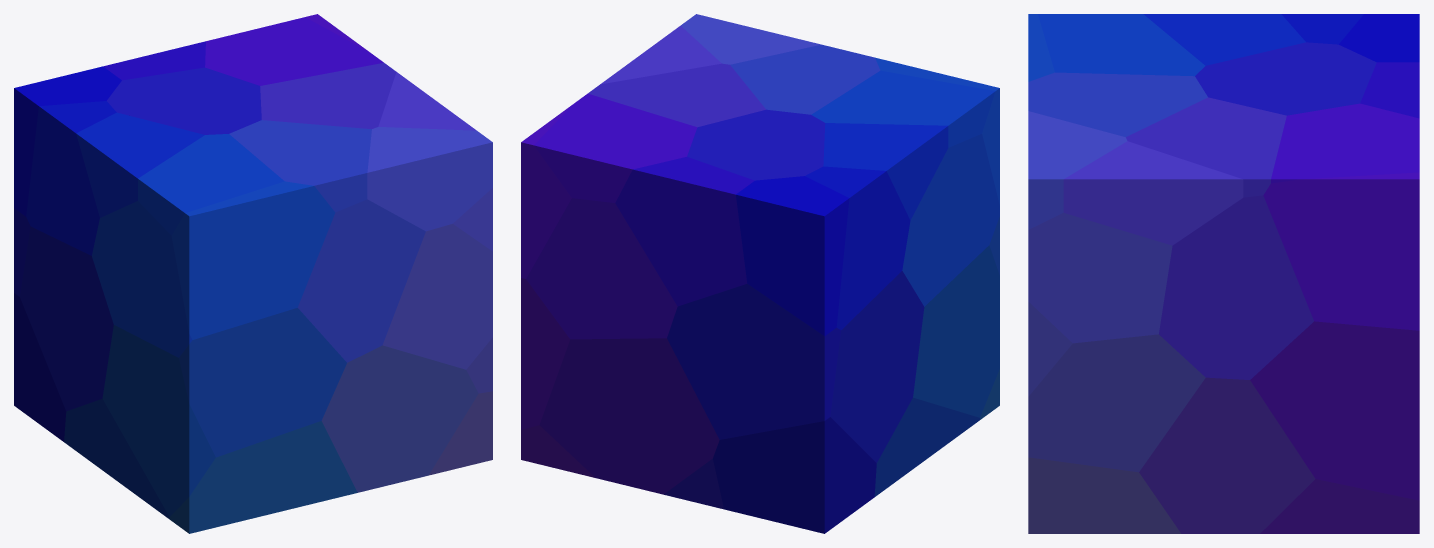
The model's file is RBD_Duck_V2_mesh.fbx.
3 renders of one model, left to right at view 1: azimuth 30°, elevation 25°; view 2: azimuth 150°, elevation 25°; view 3: azimuth 270°, elevation 25°, orthographic. The views are drawn at different scales.
Parts seen in each view (by area): view 1: MESH; view 2: MESH; view 3: MESH.
Boxes of the visible parts, bbox=[...] form: MESH: bbox=[14, 14, 492, 533]; MESH: bbox=[521, 14, 999, 533]; MESH: bbox=[1028, 14, 1419, 533].
Size of the model in its own units: 100 by 100 by 100.
